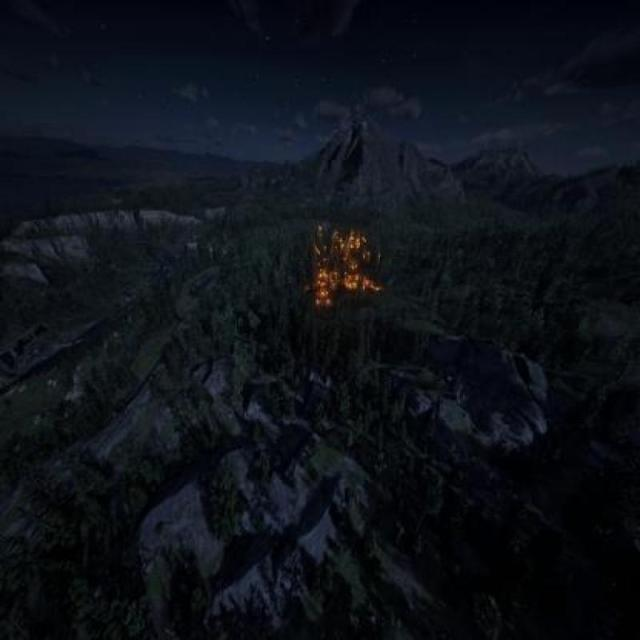Fire: (312, 222, 386, 316)
